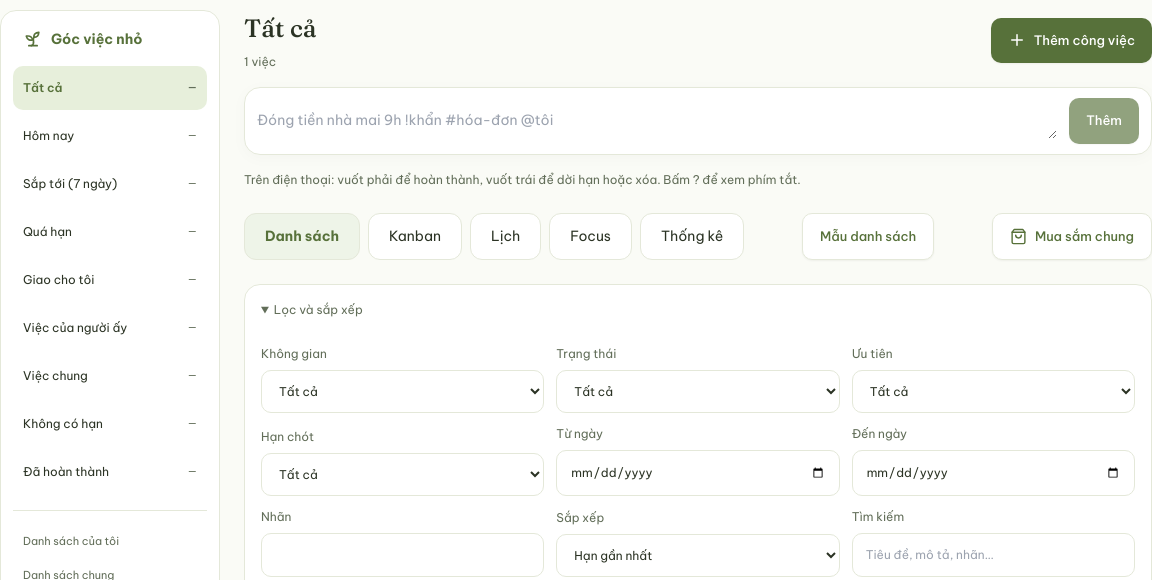
Test: bộ lọc gửi đúng scope/search/priority và bảng Kanban4 cột
Select "Giao cho tôi" in the dropdown named "Lọc không gian": (403, 392) [261, 370, 544, 413]
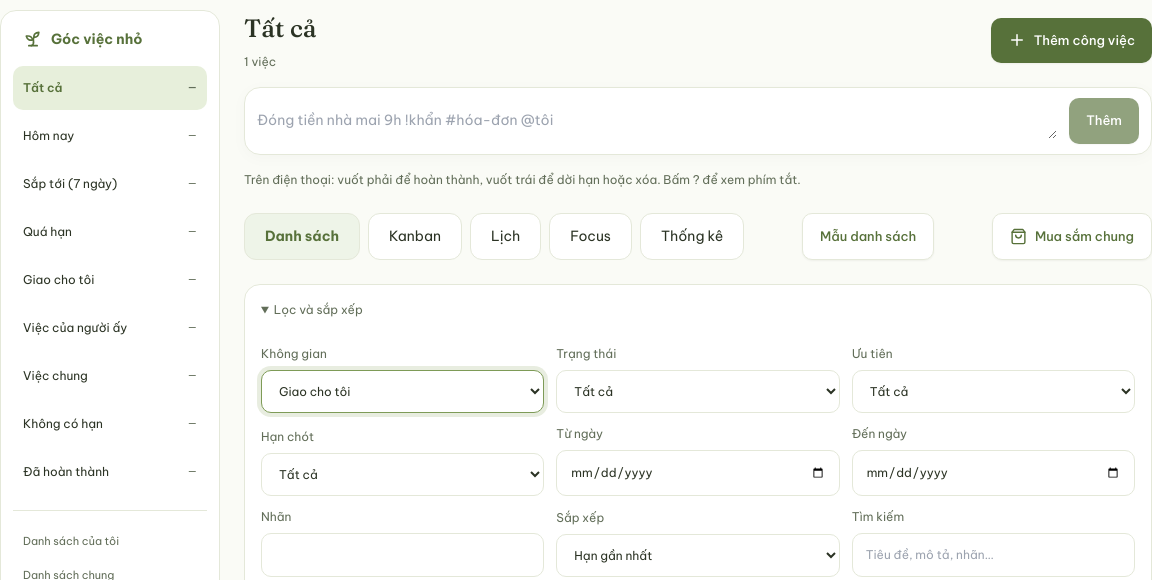
Select "Cao" in the dropdown named "Lọc ưu tiên": (993, 392) [852, 370, 1135, 413]
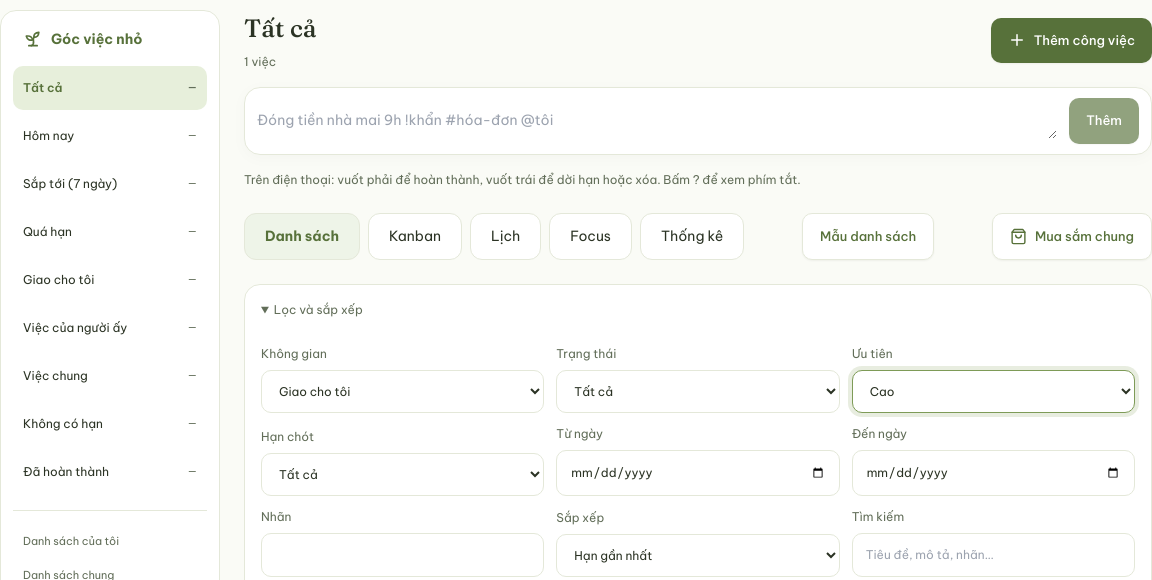
In the field named "Tìm công việc": (993, 555) [852, 533, 1135, 577], type "Dọn"
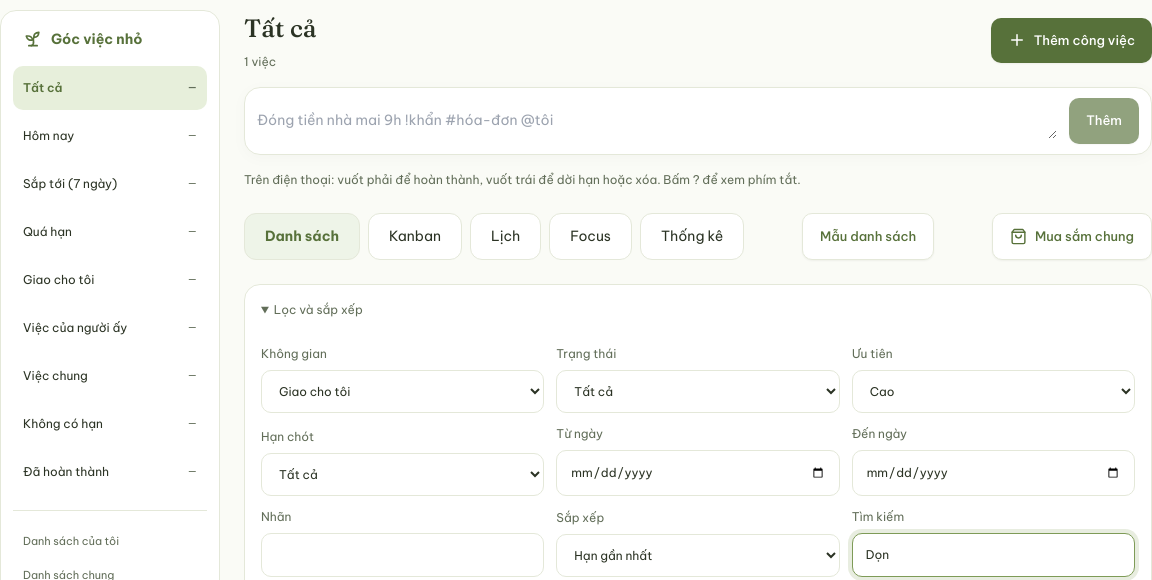
Click the tab "Kanban": (415, 236) [368, 212, 462, 260]
(page scrolled)
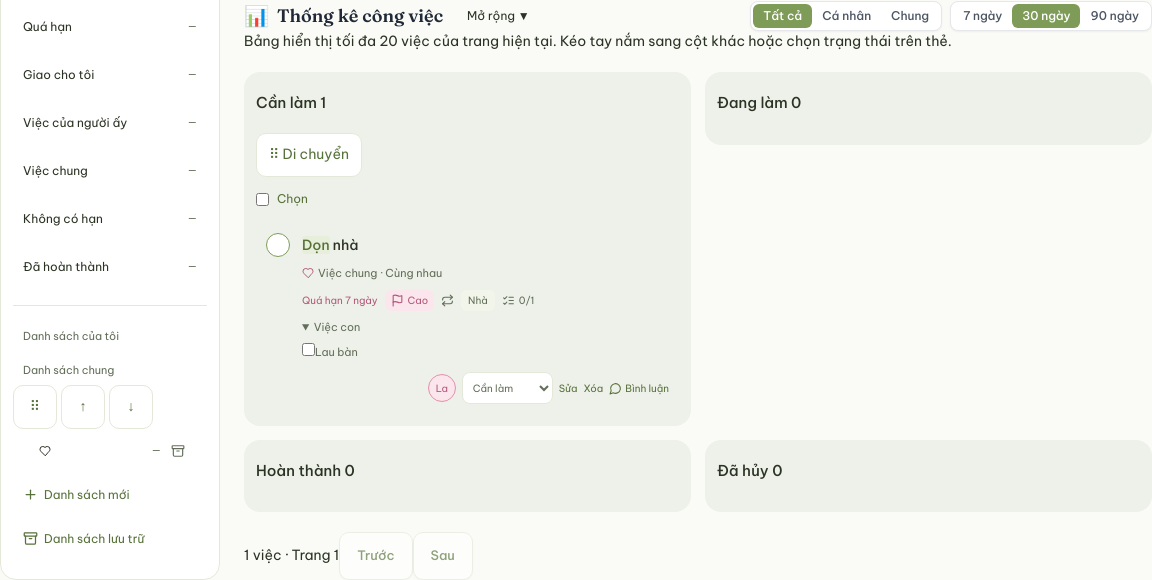
Now the heading "Cần làm 1" is shown, box [256, 93, 326, 112]
Now the heading "Đang làm 0" is shown, box [717, 93, 801, 112]
Now the heading "Hoàn thành 0" is shown, box [256, 461, 355, 480]
